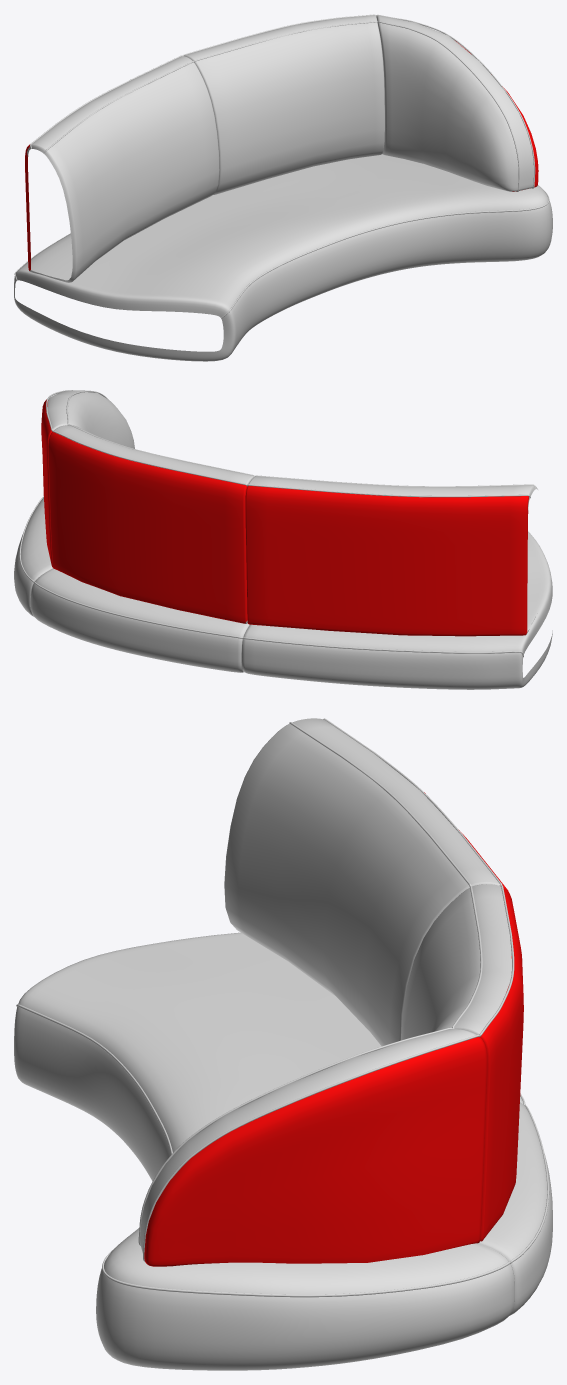
The model's file is levante_s_male_mirror.gltf.
3 views of the same model, one above another, from view 1: azimuth 30°, elevation 25°; view 2: azimuth 150°, elevation 25°; view 3: azimuth 270°, elevation 25° (orthographic). The views are drawn at different scales.
Parts seen in each view (by area): view 1: levante_s_male001; view 2: levante_s_male001; view 3: levante_s_male001.
Part boxes in pixels (box(x1,y1,x2,y2)): levante_s_male001: box(14, 14, 552, 361); levante_s_male001: box(14, 390, 552, 689); levante_s_male001: box(14, 718, 552, 1370).
Size of the model in its own units: 1.91 by 0.6903 by 1.15.
